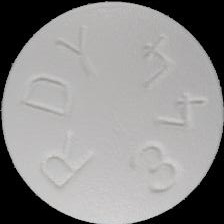55111-344: (0, 0, 224, 224)
